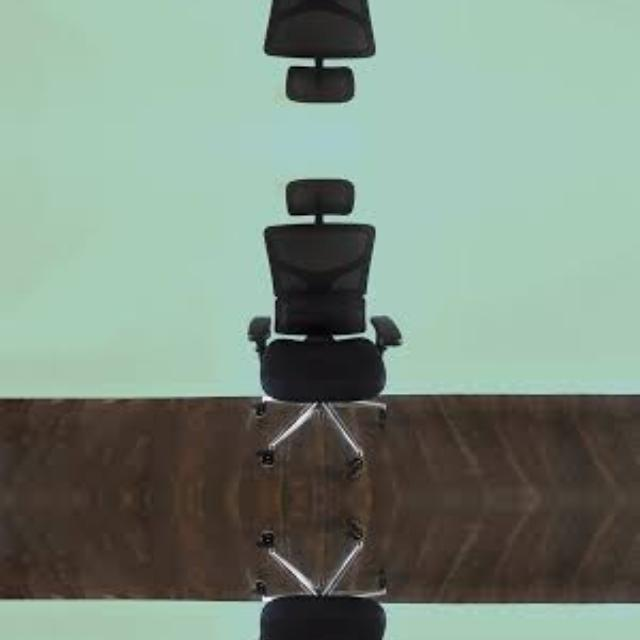obstacle: (215, 140, 467, 480), (215, 0, 467, 140), (215, 517, 467, 640)
